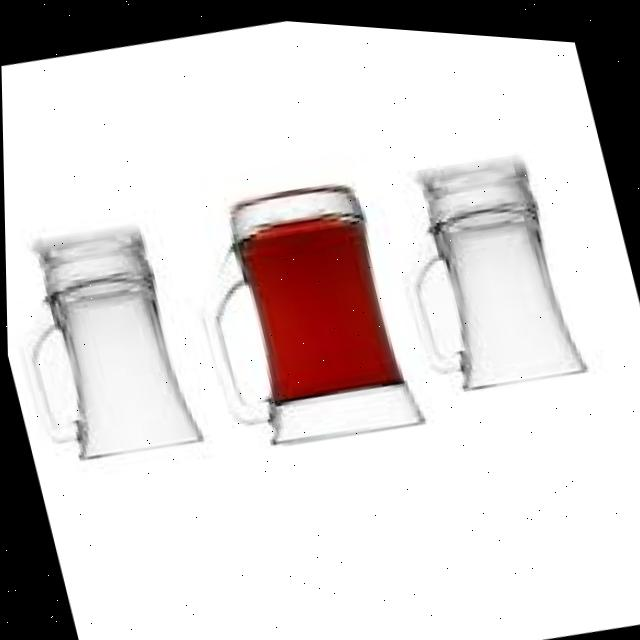Dry: (173, 161, 428, 470), (4, 233, 206, 480)
